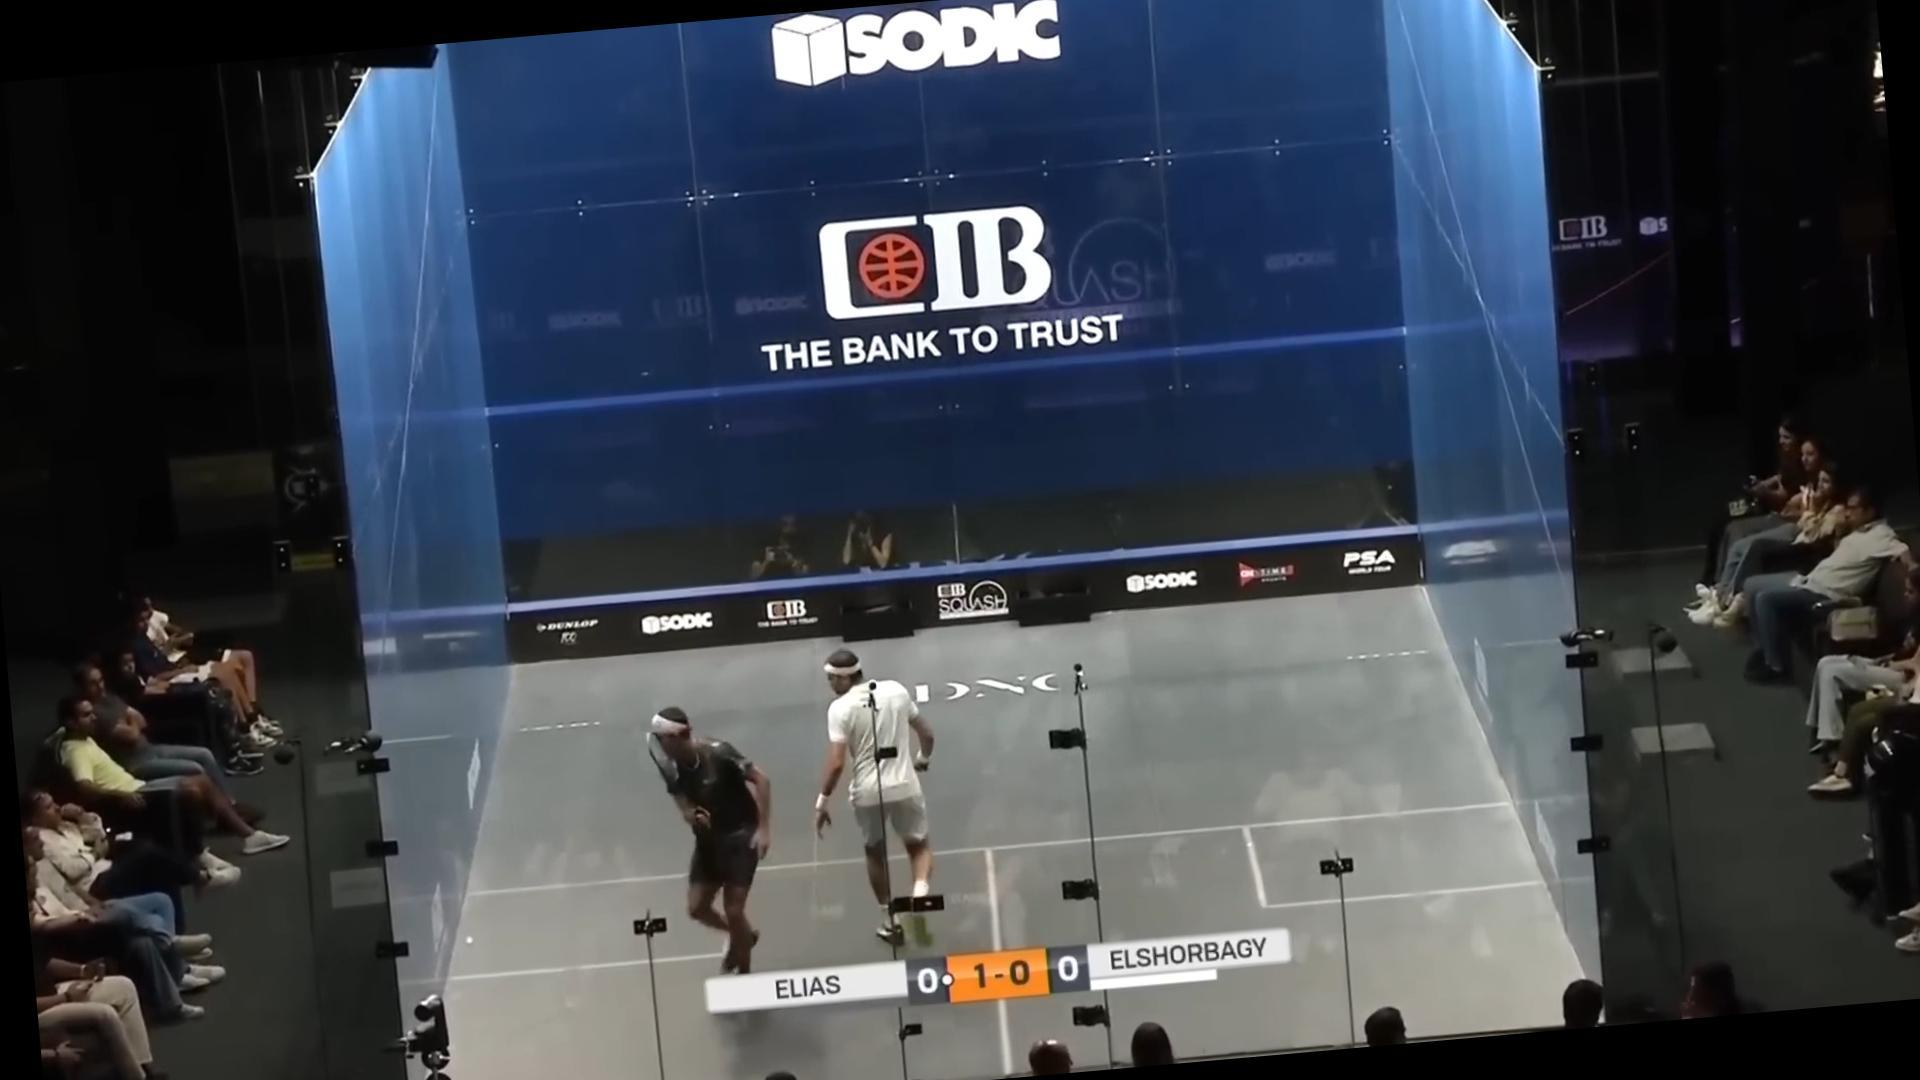Squash-Ball: (455, 924, 489, 957)
